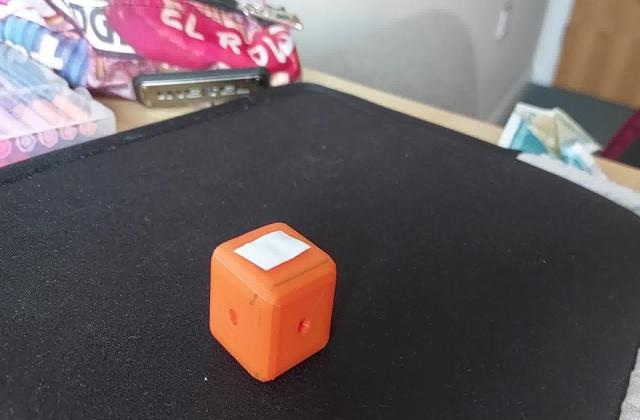cube: (206, 215, 340, 384)
white: (237, 238, 302, 277)
